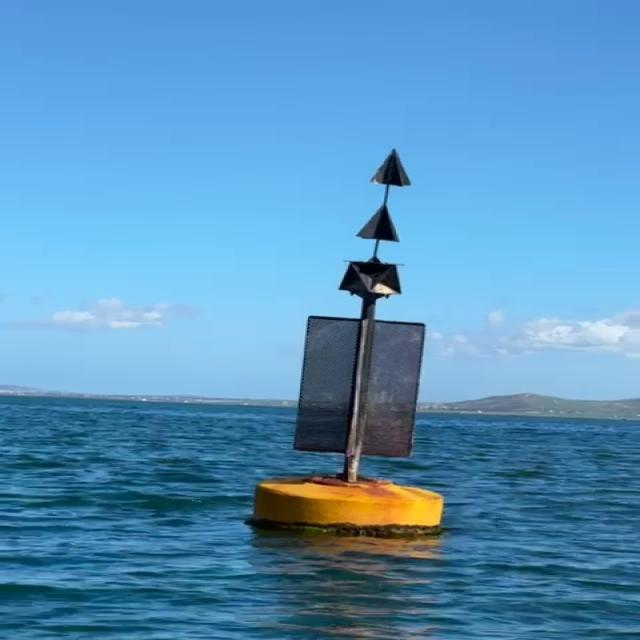marque: (254, 148, 445, 543)
